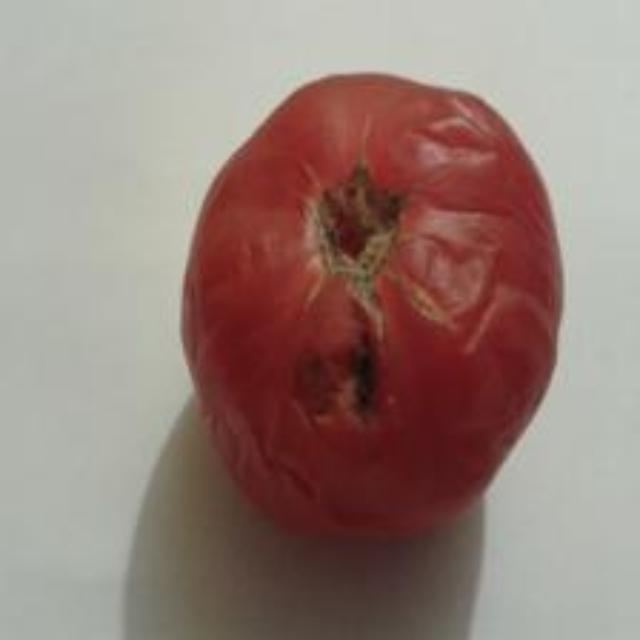defect: (179, 67, 570, 541)
